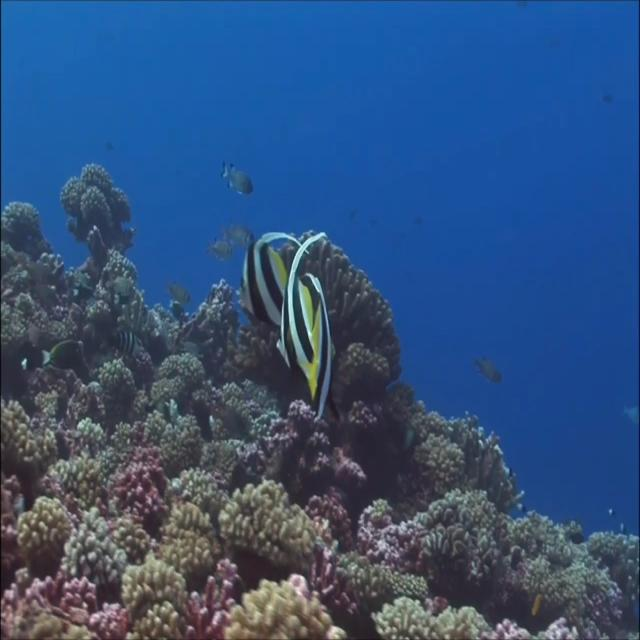Bannerfish: (283, 229, 333, 409), (240, 231, 305, 333)
